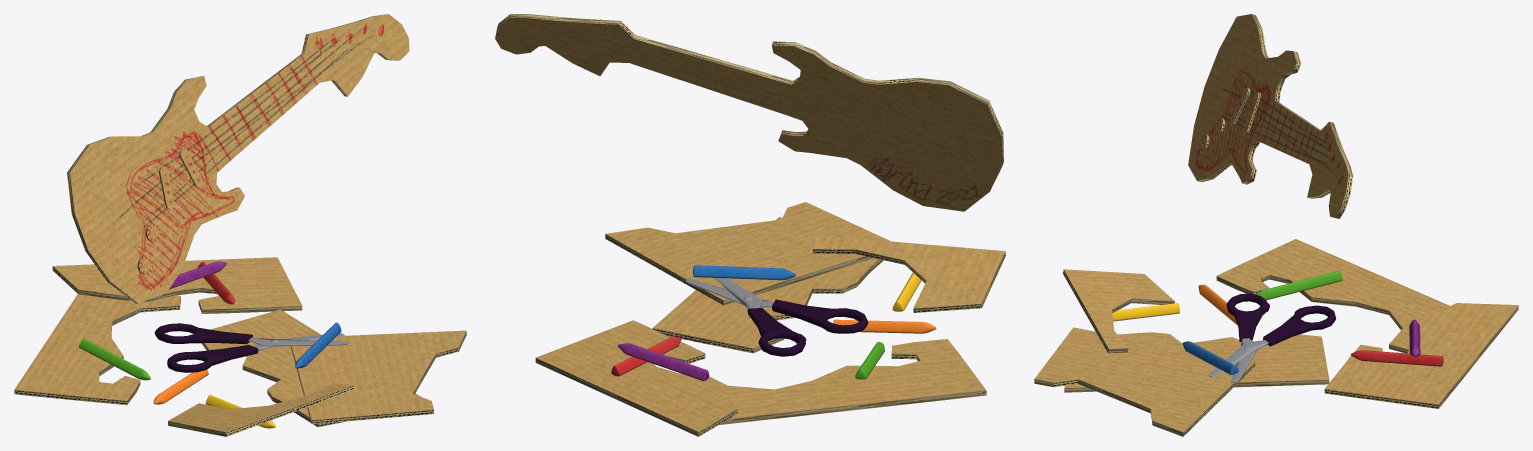
File: guitar2.glb
The picture shows the model from 3 angles, left to right: view 1: azimuth 30°, elevation 25°; view 2: azimuth 150°, elevation 25°; view 3: azimuth 270°, elevation 25°; orthographic projection. The views are drawn at different scales.
Parts seen in each view (by area): view 1: Object_2; view 2: Object_2; view 3: Object_2.
Part boxes in pixels (box(x1,y1,x2,y2)): Object_2: box(14, 14, 466, 436); Object_2: box(495, 14, 1005, 436); Object_2: box(1034, 14, 1518, 436).
Bounding box in the file's own units: 24.54 × 15.44 × 24.33.
1 material, 1 textured.
